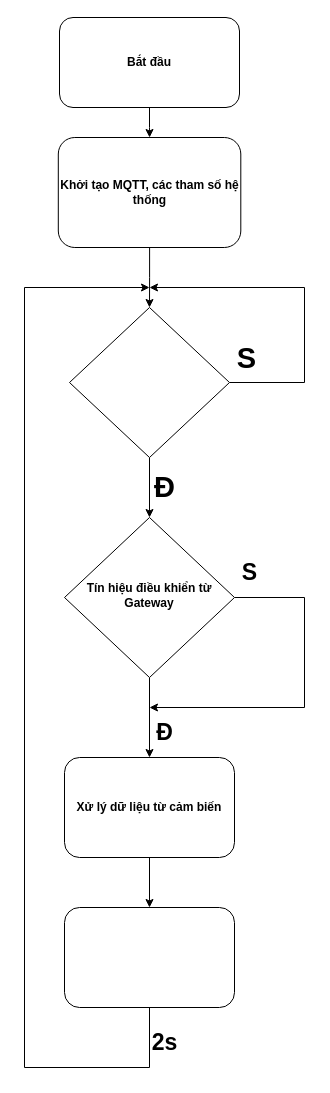
The diagram is 330 pixels wide and 1093 high, and some of its shapes have lost their labels. The shapes that lost their labels are listed below. From the top down, each one's box as (x1, y1, x2, y2) in pixels, then its label:
(68, 306, 230, 458): Kết nối thành công
(64, 906, 234, 1008): Gửi dữ liệu từ nút cảm biến lên Gateway
